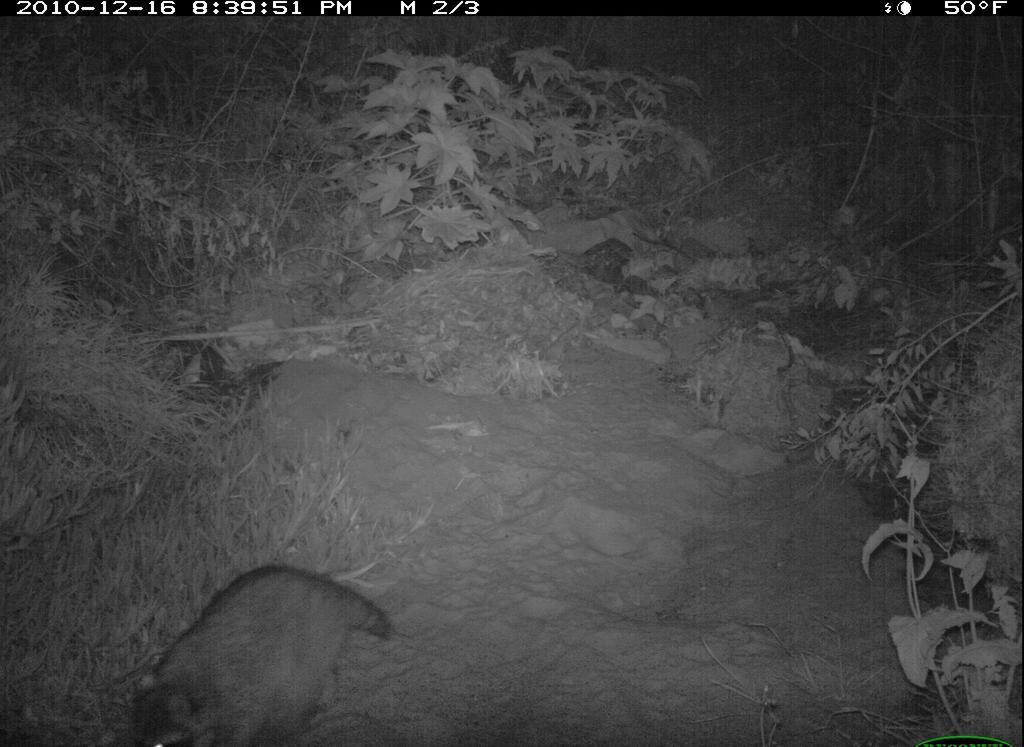raccoon: (118, 551, 396, 739)
